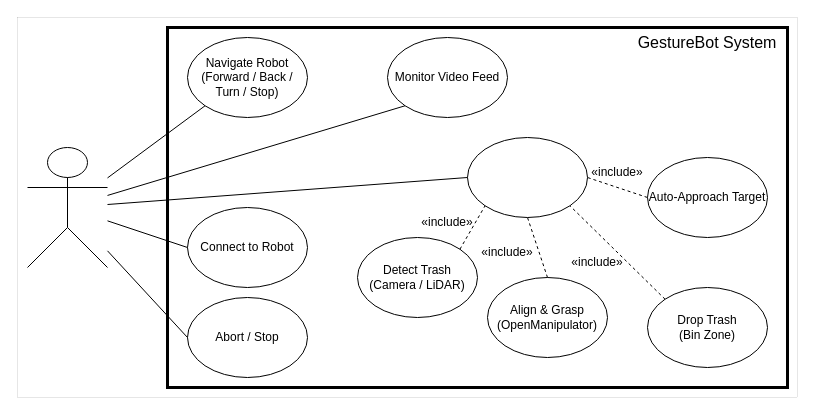
The diagram is 814 pixels wide and 414 high, and some of its shapes have lost their labels. Each missing label, with the centre of its shape:
"Operator" goes at [67,207].
"Pickup Trash" goes at [527,177].
